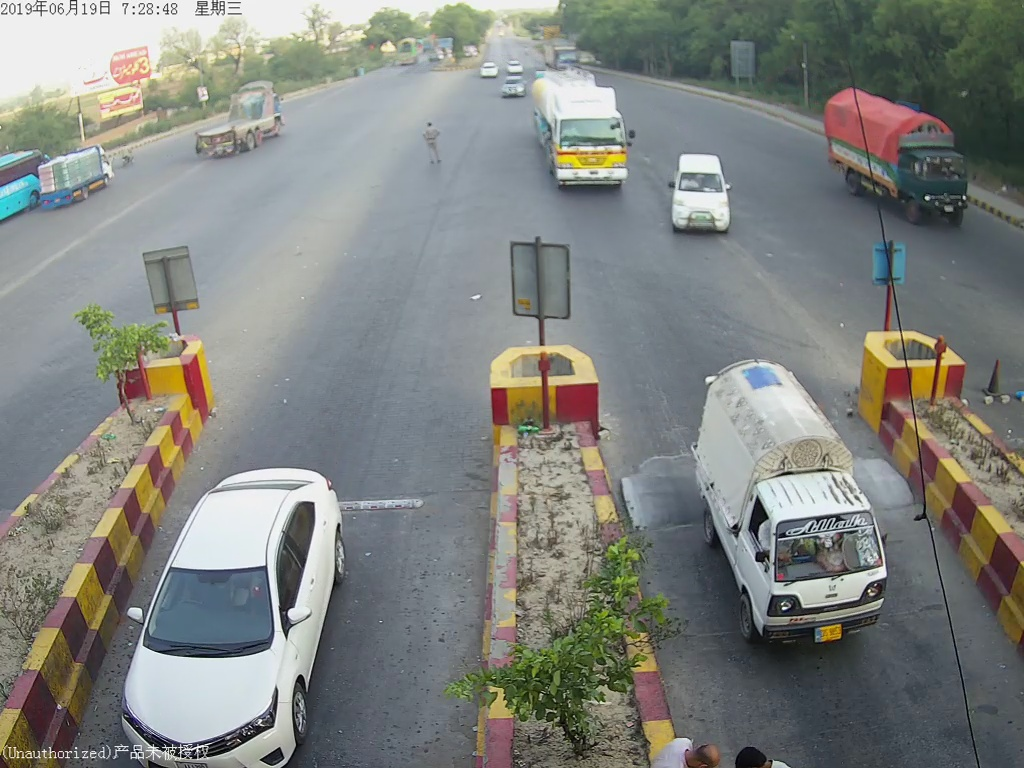Cat-1: (684, 359, 902, 659), (114, 476, 366, 734), (667, 141, 736, 234)
Cat-5: (529, 76, 640, 188)
